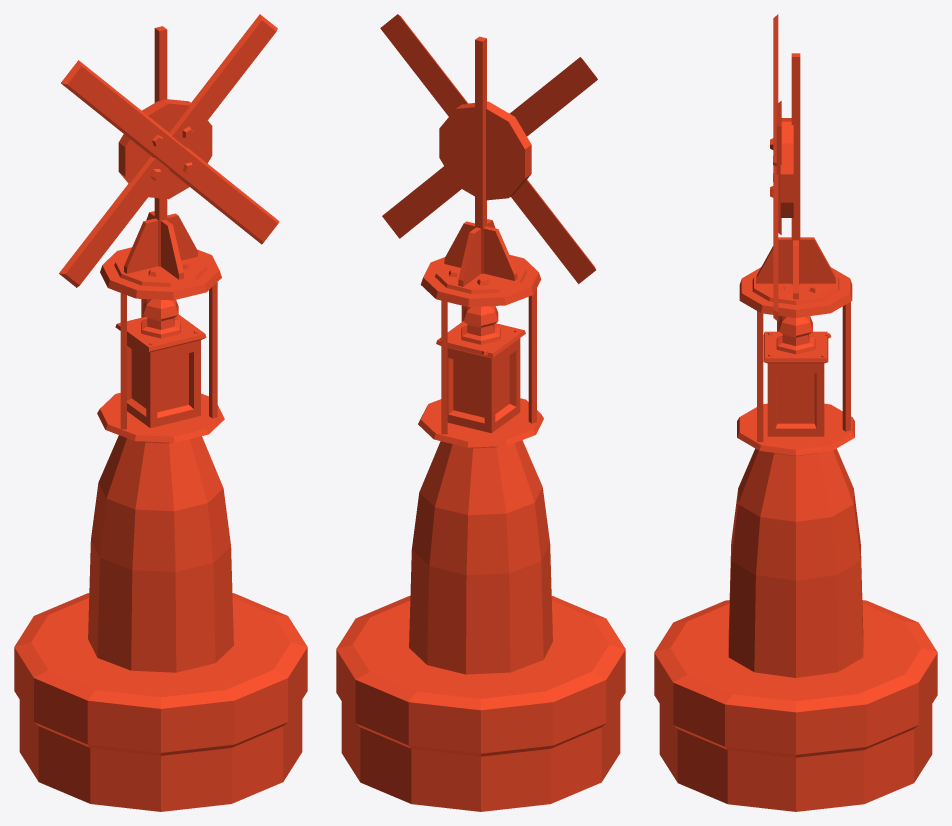
File: SM_Buoy_Special_Mark_City.fbx
The picture shows the model from 3 angles, left to right: view 1: azimuth 30°, elevation 25°; view 2: azimuth 150°, elevation 25°; view 3: azimuth 270°, elevation 25°; orthographic projection. The views are drawn at different scales.
Visible parts, largest first — view 1: SM_Buoy_Special_Mark_City; view 2: SM_Buoy_Special_Mark_City; view 3: SM_Buoy_Special_Mark_City.
Boxes of the visible parts, x1=… form: SM_Buoy_Special_Mark_City: x1=14, y1=14, x2=307, y2=811; SM_Buoy_Special_Mark_City: x1=336, y1=14, x2=625, y2=811; SM_Buoy_Special_Mark_City: x1=654, y1=14, x2=937, y2=811.
Bounding box in the file's own units: 1.6 × 4.36 × 1.6.
